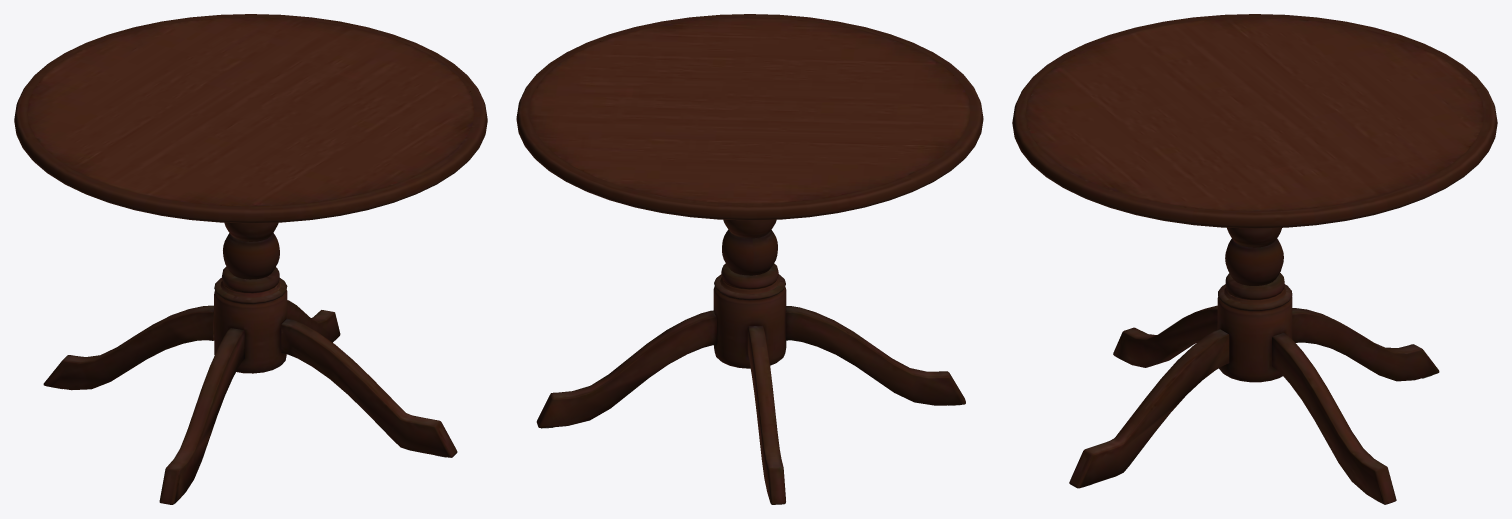
File: round_wooden_table_01.glb
The picture shows the model from 3 angles, left to right: view 1: azimuth 30°, elevation 25°; view 2: azimuth 150°, elevation 25°; view 3: azimuth 270°, elevation 25°; orthographic projection. The views are drawn at different scales.
Visible parts, largest first — view 1: round_wooden_table_01; view 2: round_wooden_table_01; view 3: round_wooden_table_01.
Boxes of the visible parts, box(x1,y1,x2,y2) form: round_wooden_table_01: box(14, 14, 487, 504); round_wooden_table_01: box(516, 14, 983, 504); round_wooden_table_01: box(1012, 14, 1497, 504).
Size of the model in its own units: 1.4 by 1 by 1.4.
Materials: 1 (1 with a texture image).
